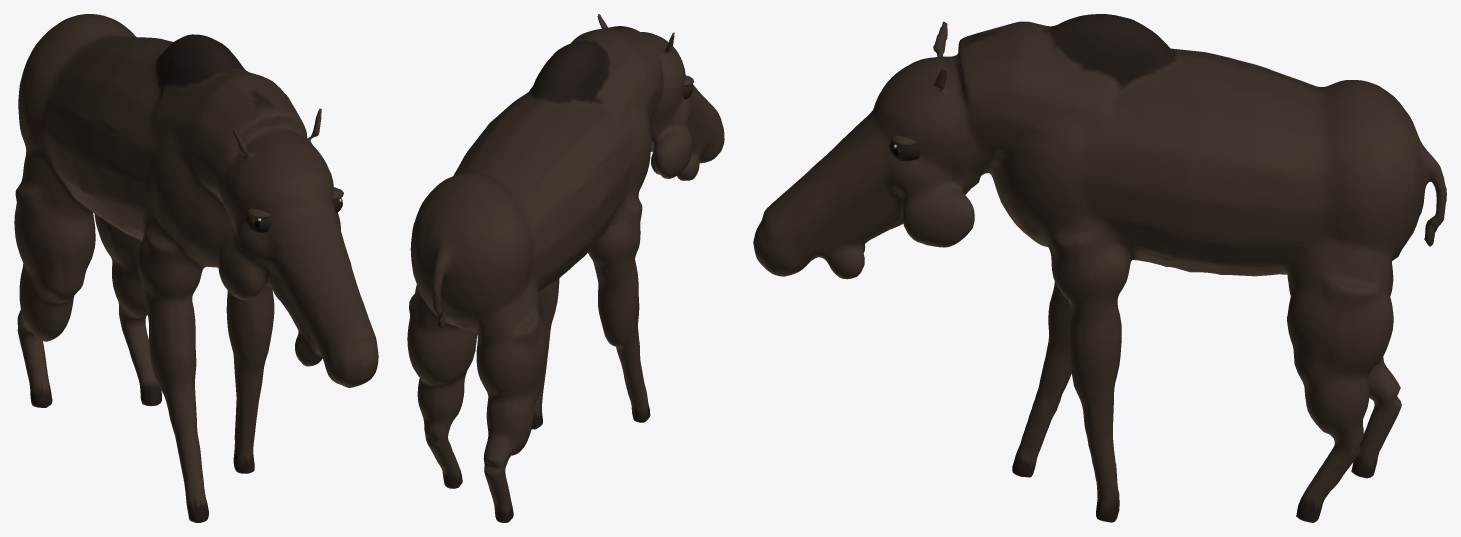
File: DaeodonShoshonensis.fbx
3 renders of one model, left to right at view 1: azimuth 30°, elevation 25°; view 2: azimuth 150°, elevation 25°; view 3: azimuth 270°, elevation 25°, orthographic. The views are drawn at different scales.
Visible parts, largest first — view 1: DaeodonShoshonensis; view 2: DaeodonShoshonensis; view 3: DaeodonShoshonensis.
Boxes of the visible parts, box(x1,y1,x2,y2) form: DaeodonShoshonensis: box(14, 14, 378, 522); DaeodonShoshonensis: box(407, 14, 724, 522); DaeodonShoshonensis: box(753, 14, 1446, 522).
Size of the model in its own units: 0.465 by 1.37 by 1.79.
